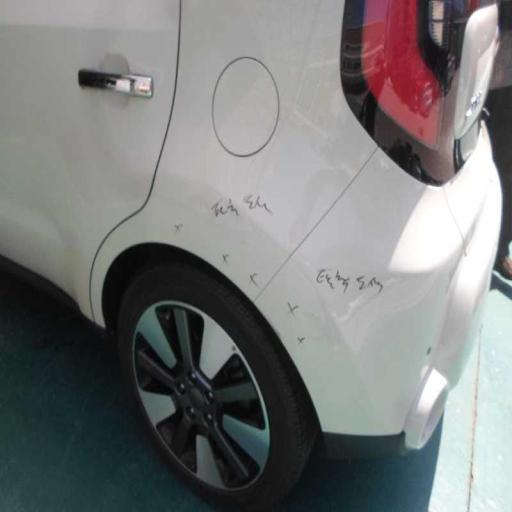scratch: (184, 131, 386, 366)
